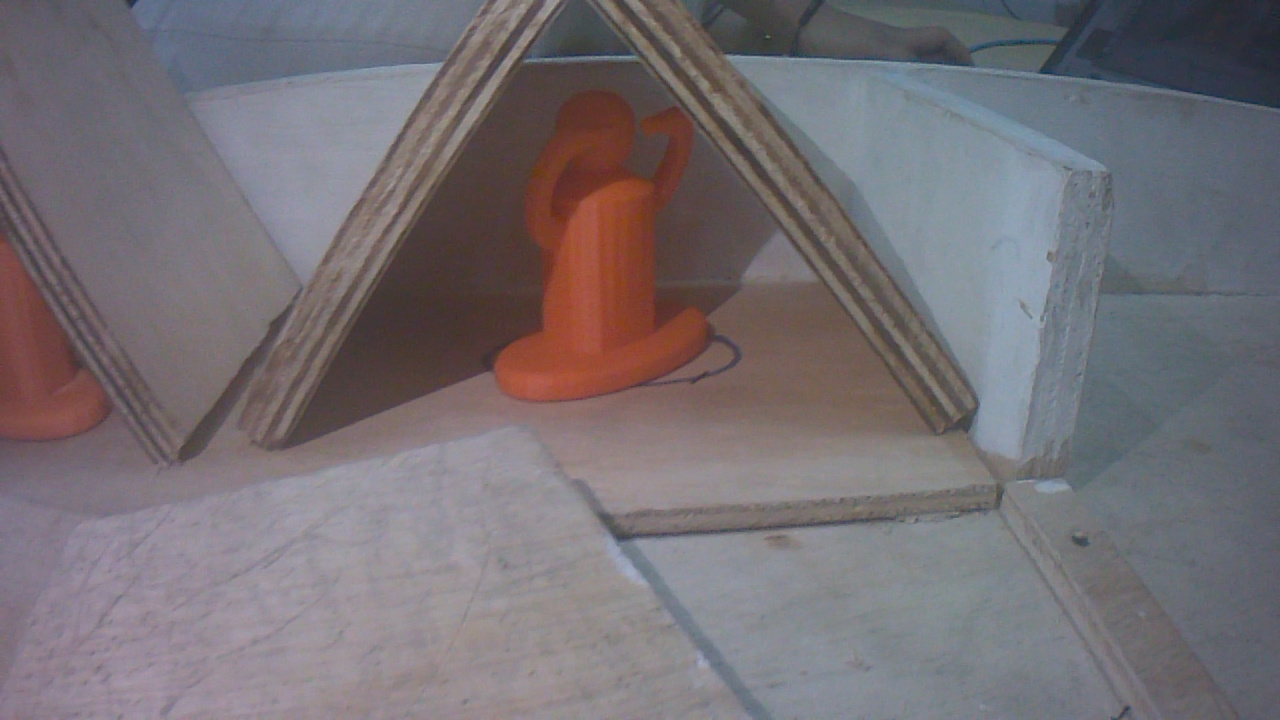real: (502, 83, 704, 398)
